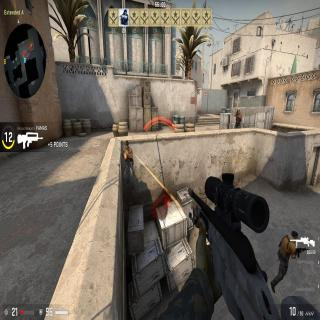T-Body: (270, 230, 301, 290), (122, 141, 134, 186), (235, 108, 242, 128)
T-Head: (291, 230, 299, 240), (125, 140, 129, 150), (237, 108, 240, 113)
